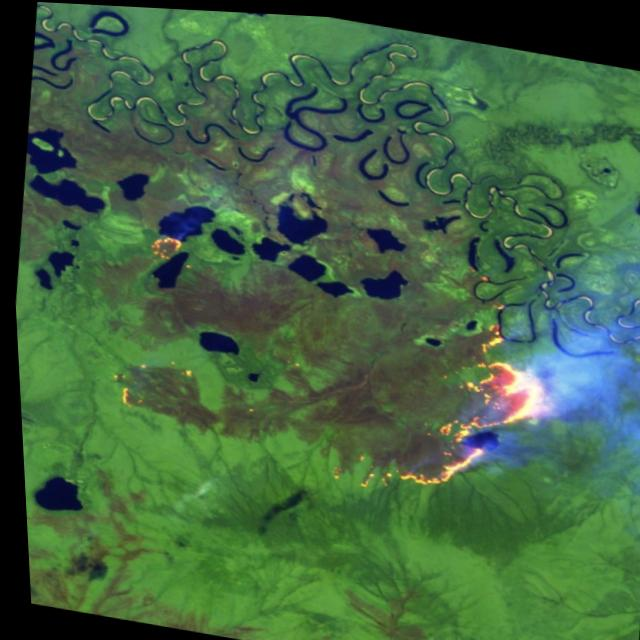fire: (313, 253, 585, 523), (89, 336, 212, 425), (123, 214, 192, 274)
